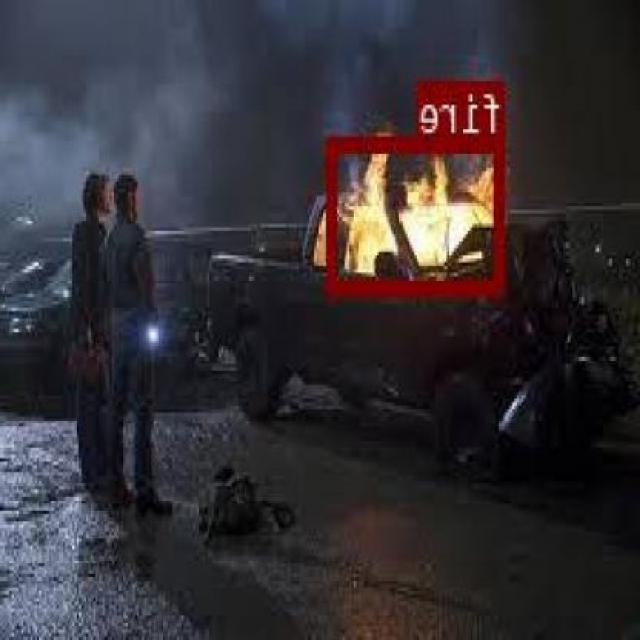Fire: (328, 136, 507, 292)
